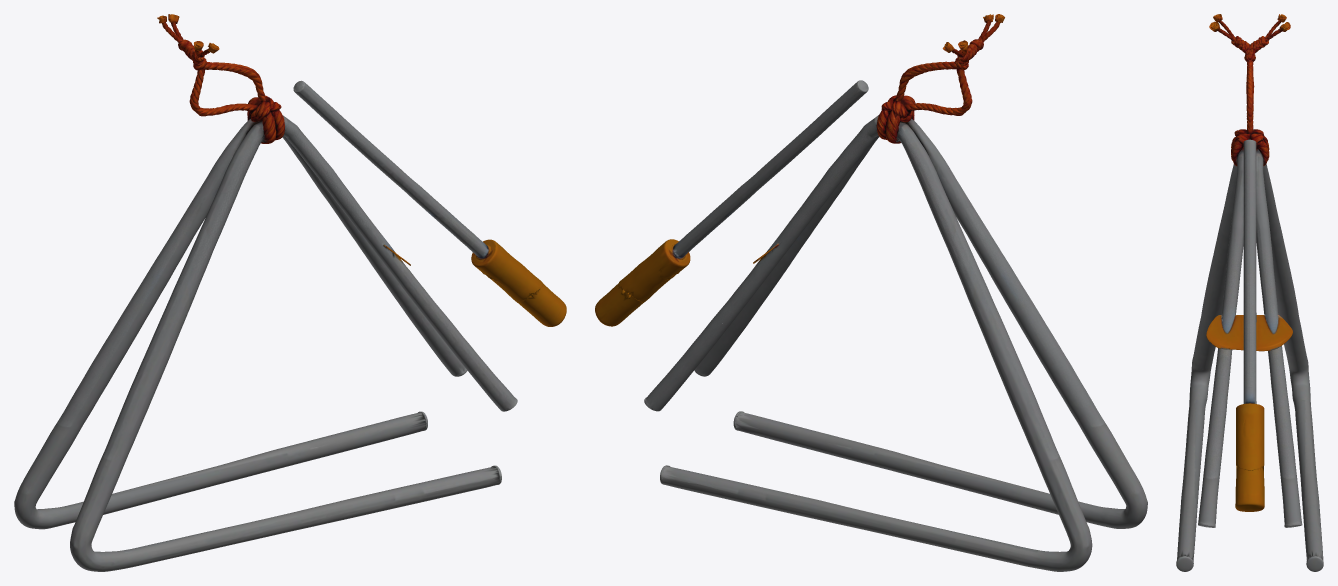
Rendered from triangulo.glb.
3 views of the same model, side by side, from view 1: azimuth 30°, elevation 25°; view 2: azimuth 150°, elevation 25°; view 3: azimuth 270°, elevation 25° (orthographic). The views are drawn at different scales.
Parts seen in each view (by area): view 1: tripo_node_a1b6baf3-a6dc-4bd5-a521-97fdd1daaf83; view 2: tripo_node_a1b6baf3-a6dc-4bd5-a521-97fdd1daaf83; view 3: tripo_node_a1b6baf3-a6dc-4bd5-a521-97fdd1daaf83.
Boxes of the visible parts, bbox=[...] form: tripo_node_a1b6baf3-a6dc-4bd5-a521-97fdd1daaf83: bbox=[14, 14, 566, 571]; tripo_node_a1b6baf3-a6dc-4bd5-a521-97fdd1daaf83: bbox=[595, 14, 1147, 571]; tripo_node_a1b6baf3-a6dc-4bd5-a521-97fdd1daaf83: bbox=[1176, 14, 1323, 571].
Size of the model in its own units: 0.979 by 0.8921 by 0.2729.
1 material, 1 textured.
